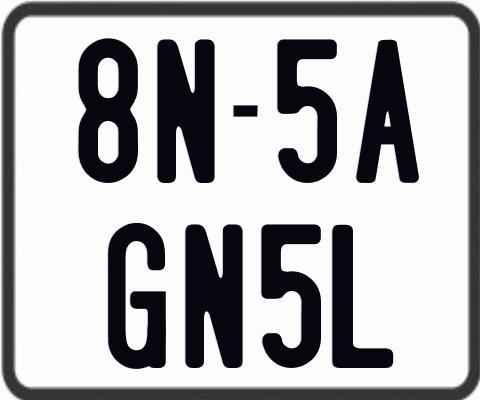5: (259, 223, 324, 369), (274, 38, 335, 184)
8: (75, 36, 136, 185)
A: (355, 37, 421, 180)
G: (106, 222, 170, 369)
L: (332, 223, 397, 367)
N: (185, 222, 247, 367), (155, 38, 215, 186)
